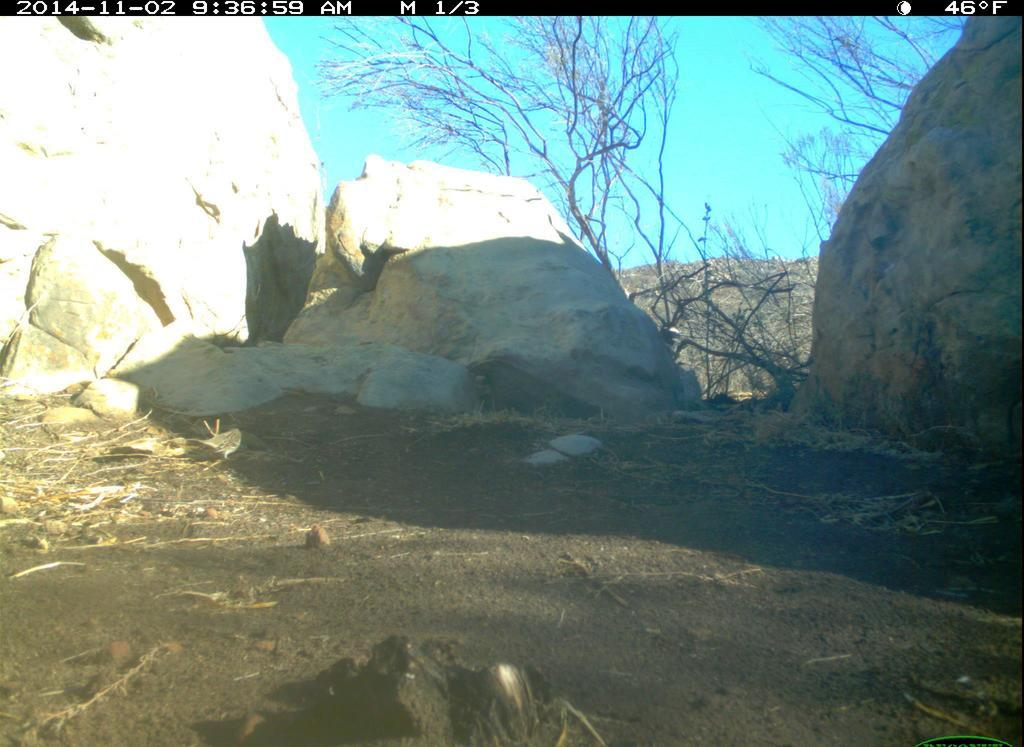bird: (200, 422, 246, 466)
